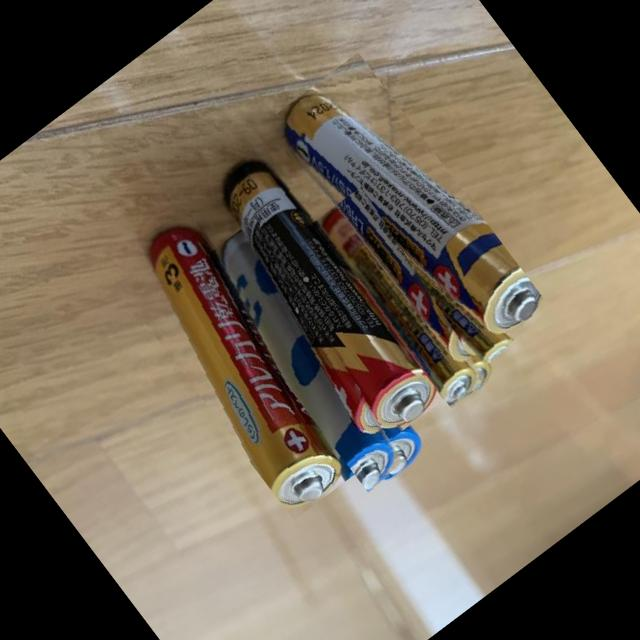Hazard: (262, 52, 556, 385), (104, 206, 376, 520), (202, 137, 460, 440), (196, 218, 431, 494), (312, 186, 502, 409)
